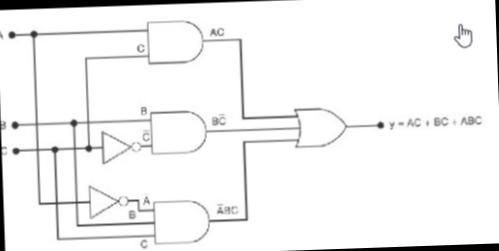and: (146, 101, 209, 158), (150, 192, 210, 251), (142, 16, 207, 70)
not: (95, 125, 141, 167), (86, 177, 128, 220)
or: (290, 102, 348, 154)
